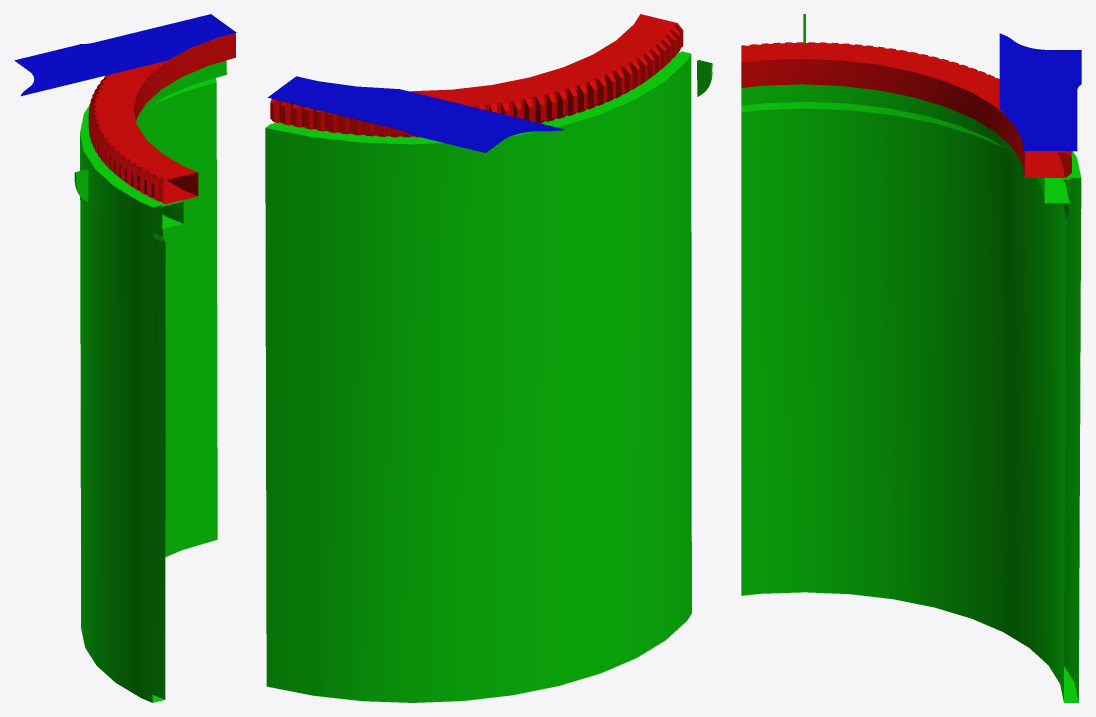
The model's file is Top Base 1.fbx.
The picture shows the model from 3 angles, left to right: view 1: azimuth 30°, elevation 25°; view 2: azimuth 150°, elevation 25°; view 3: azimuth 270°, elevation 25°; orthographic projection. The views are drawn at different scales.
Visible parts, largest first — view 1: LOD0_SM_TurbineTop_Base_01; view 2: LOD0_SM_TurbineTop_Base_01; view 3: LOD0_SM_TurbineTop_Base_01.
Part boxes in pixels (box(x1,y1,x2,y2)): LOD0_SM_TurbineTop_Base_01: box(14, 14, 236, 702); LOD0_SM_TurbineTop_Base_01: box(265, 14, 712, 702); LOD0_SM_TurbineTop_Base_01: box(741, 14, 1081, 702).
Size of the model in its own units: 190 by 358 by 200.
